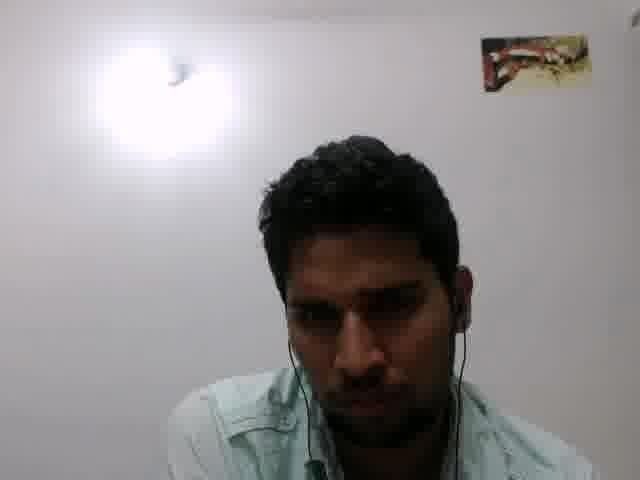bingung: (276, 219, 451, 447)
